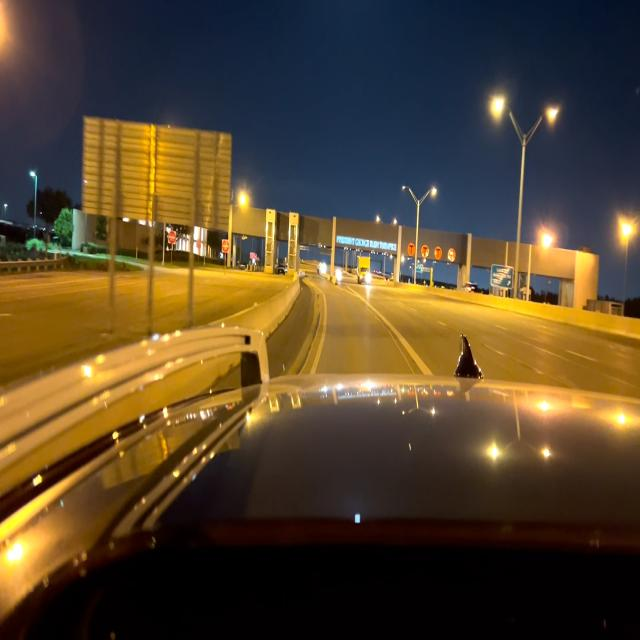back-of-sign: (82, 122, 230, 233)
